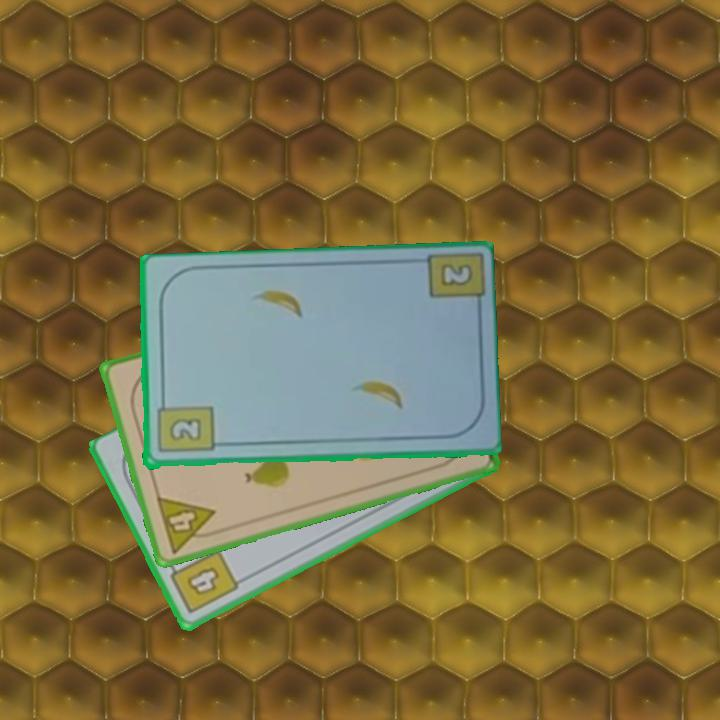2b: (153, 395, 216, 456), (440, 263, 472, 287)
4b: (164, 546, 242, 617)
4p: (152, 492, 224, 556)
